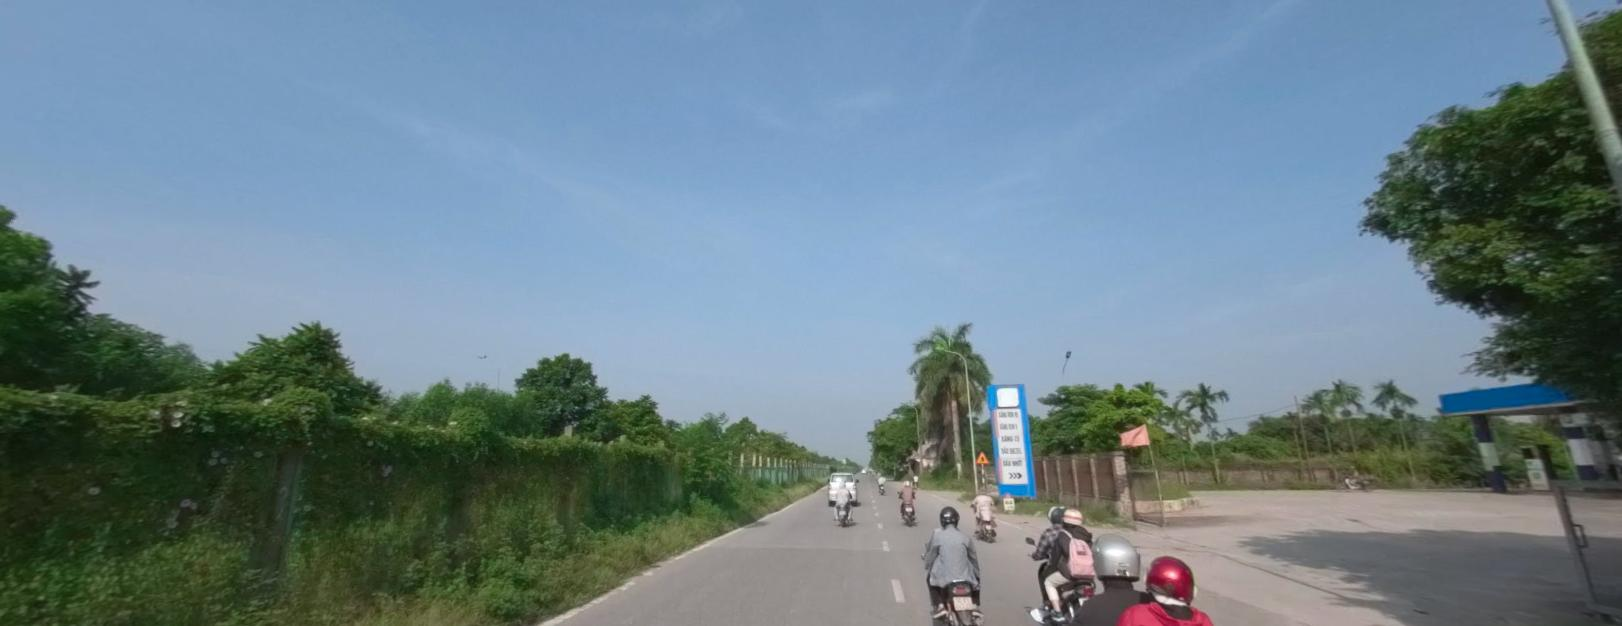Nguy hiem: (974, 449, 989, 463)
